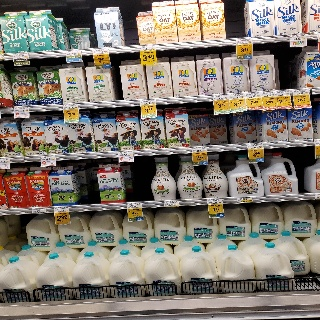All PRICE TAGS: (290, 33, 306, 40), (237, 197, 253, 203), (293, 89, 309, 95), (275, 90, 291, 96), (140, 99, 156, 105), (236, 38, 252, 44), (65, 50, 81, 56), (92, 48, 108, 54), (207, 198, 222, 204), (164, 200, 179, 206), (127, 202, 142, 208), (54, 206, 69, 212), (245, 92, 260, 98), (14, 106, 29, 112), (140, 45, 155, 51), (213, 94, 227, 100), (247, 143, 263, 148), (191, 147, 207, 152), (63, 104, 79, 109), (13, 53, 29, 58), (118, 151, 133, 156), (228, 93, 243, 98), (32, 208, 46, 213), (261, 91, 274, 96), (41, 155, 56, 159), (0, 158, 10, 164)
